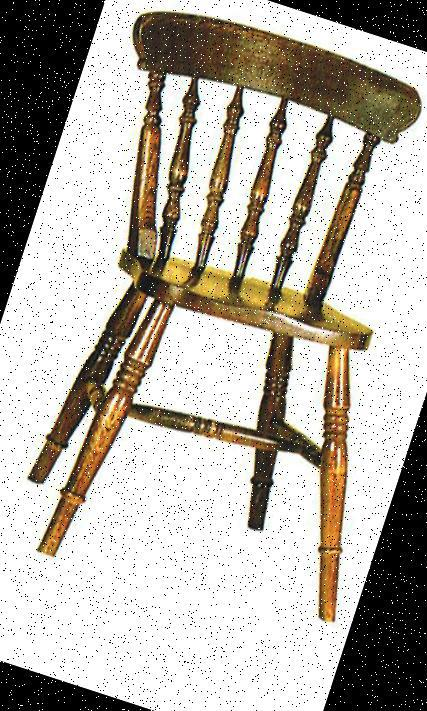Silla: (0, 0, 426, 644)
